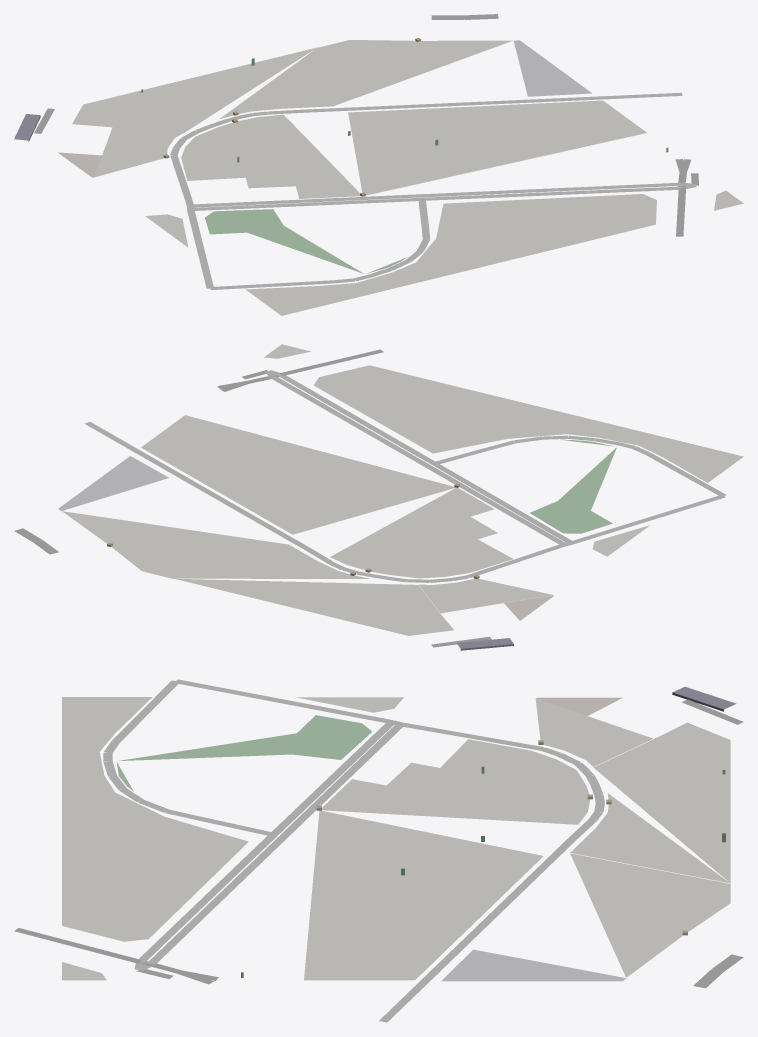
The picture shows the model from 3 angles, top to bottom: view 1: azimuth 30°, elevation 25°; view 2: azimuth 150°, elevation 25°; view 3: azimuth 270°, elevation 25°; orthographic projection. The views are drawn at different scales.
Bounding box in the file's own units: 604 × 9.38 × 546.
